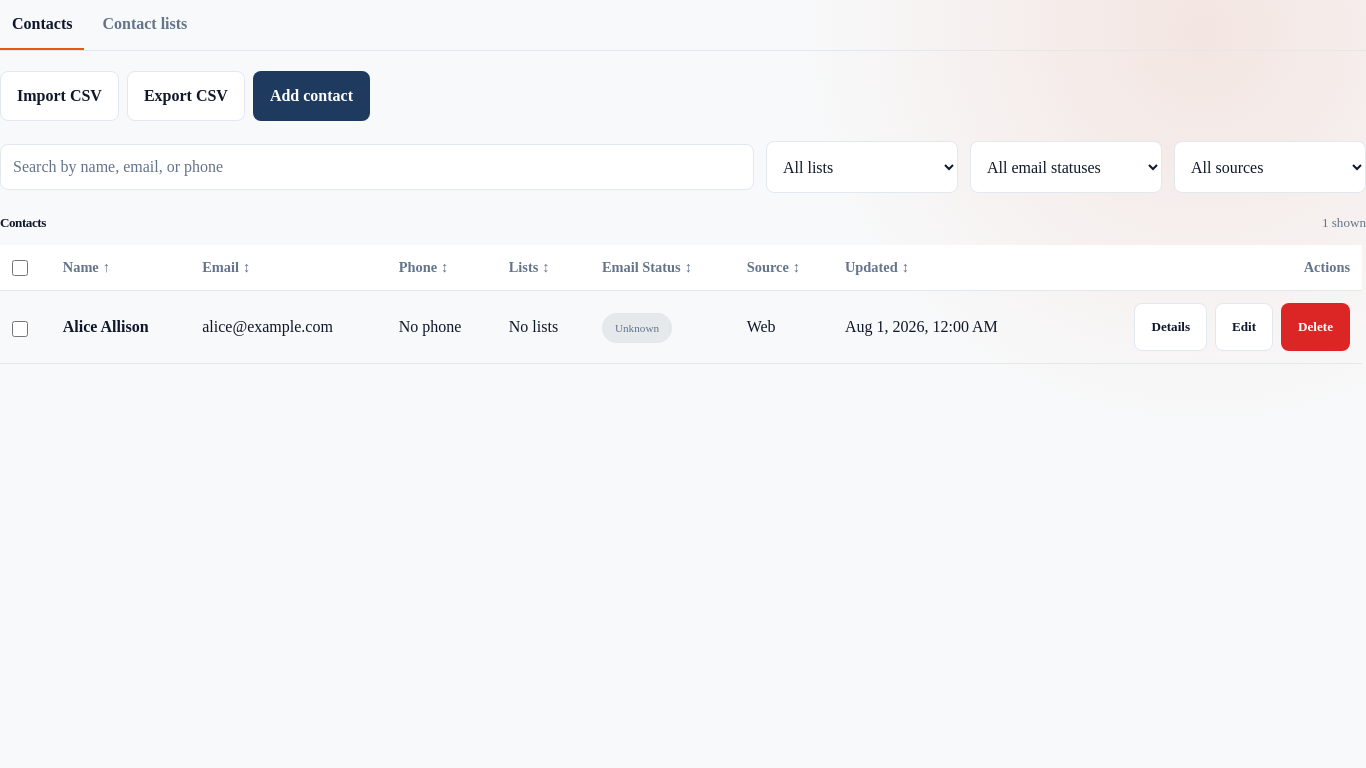
Scenario: ContactsPage list synchronization (#168) › leaves row visible and displays error message when deletion fails
Expected: the text "1 shown" is shown, x1=1322 y1=213 x2=1365 y2=233
What coordinates should you click on to do the following:
click the button with aria-label "Delete Alice Allison"
I would click on:
 (1316, 327)
Its box is x1=1281 y1=303 x2=1350 y2=351.
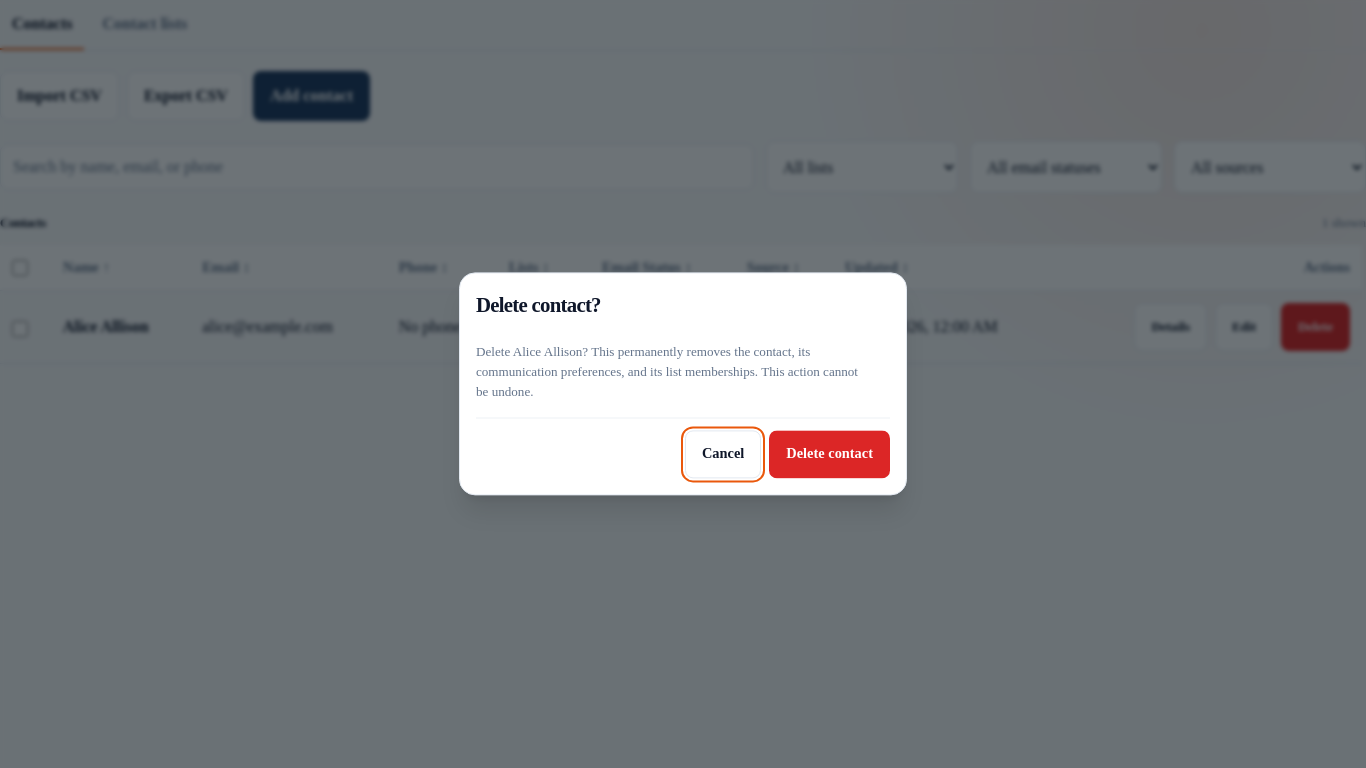
What coordinates should you click on to do the following:
click the button "Delete contact"
I would click on:
 (830, 455)
Its box is x1=769 y1=431 x2=890 y2=479.
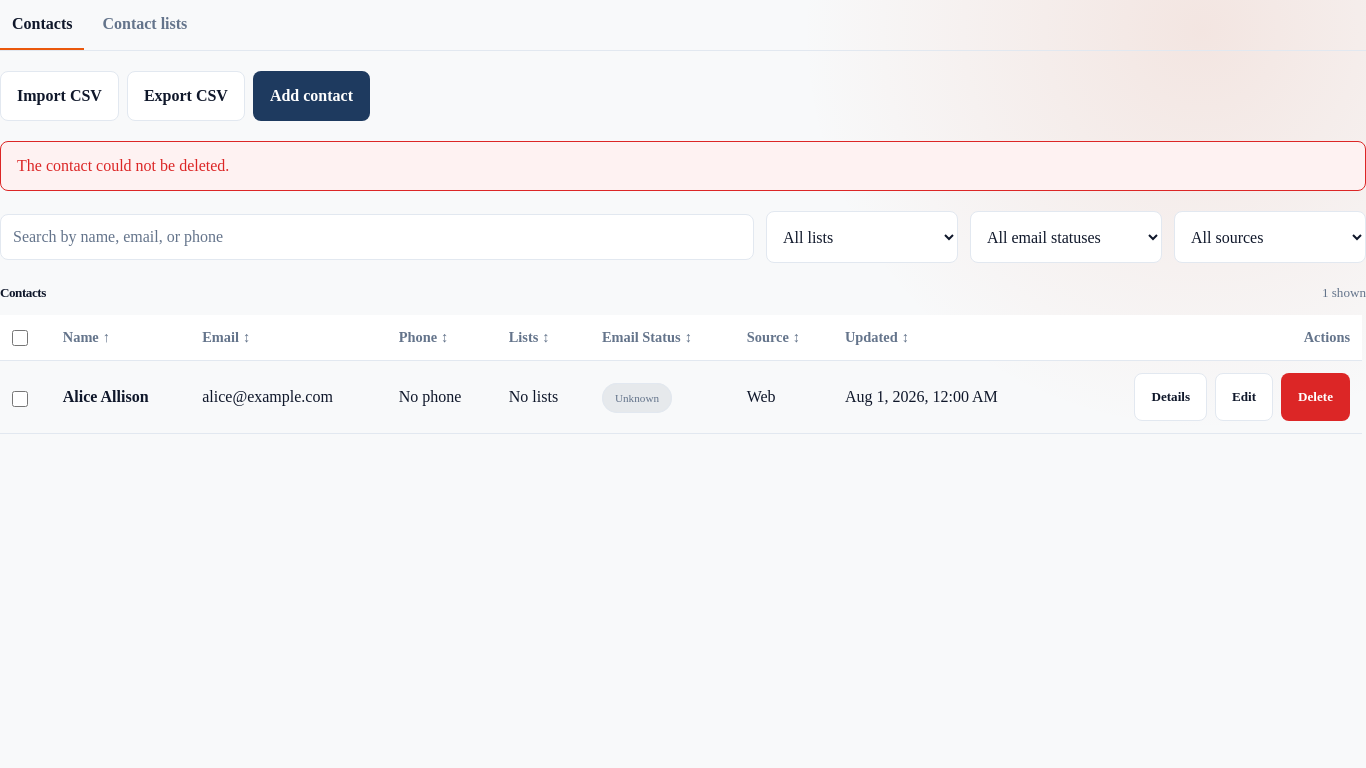
Expected: the text "1 shown" is shown, x1=1322 y1=283 x2=1365 y2=303
Result: the dialog is gone
Result: the text "The contact could not be deleted." is shown at x1=0 y1=141 x2=1365 y2=191
